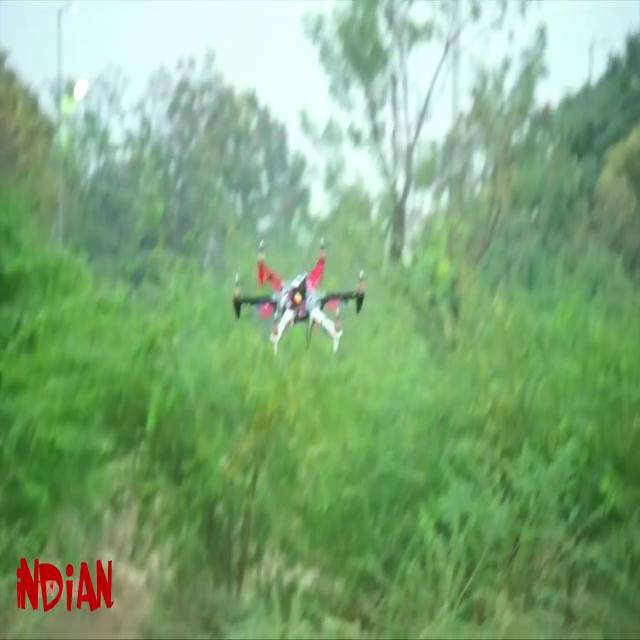drone: (223, 231, 374, 373)
